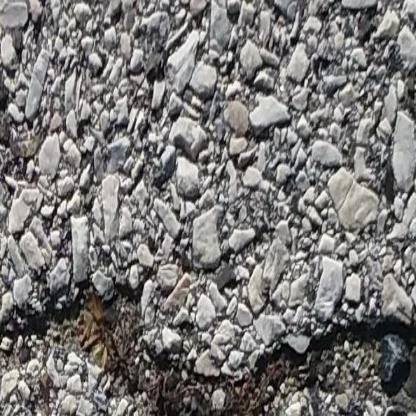Cracks: (0, 287, 416, 416)
